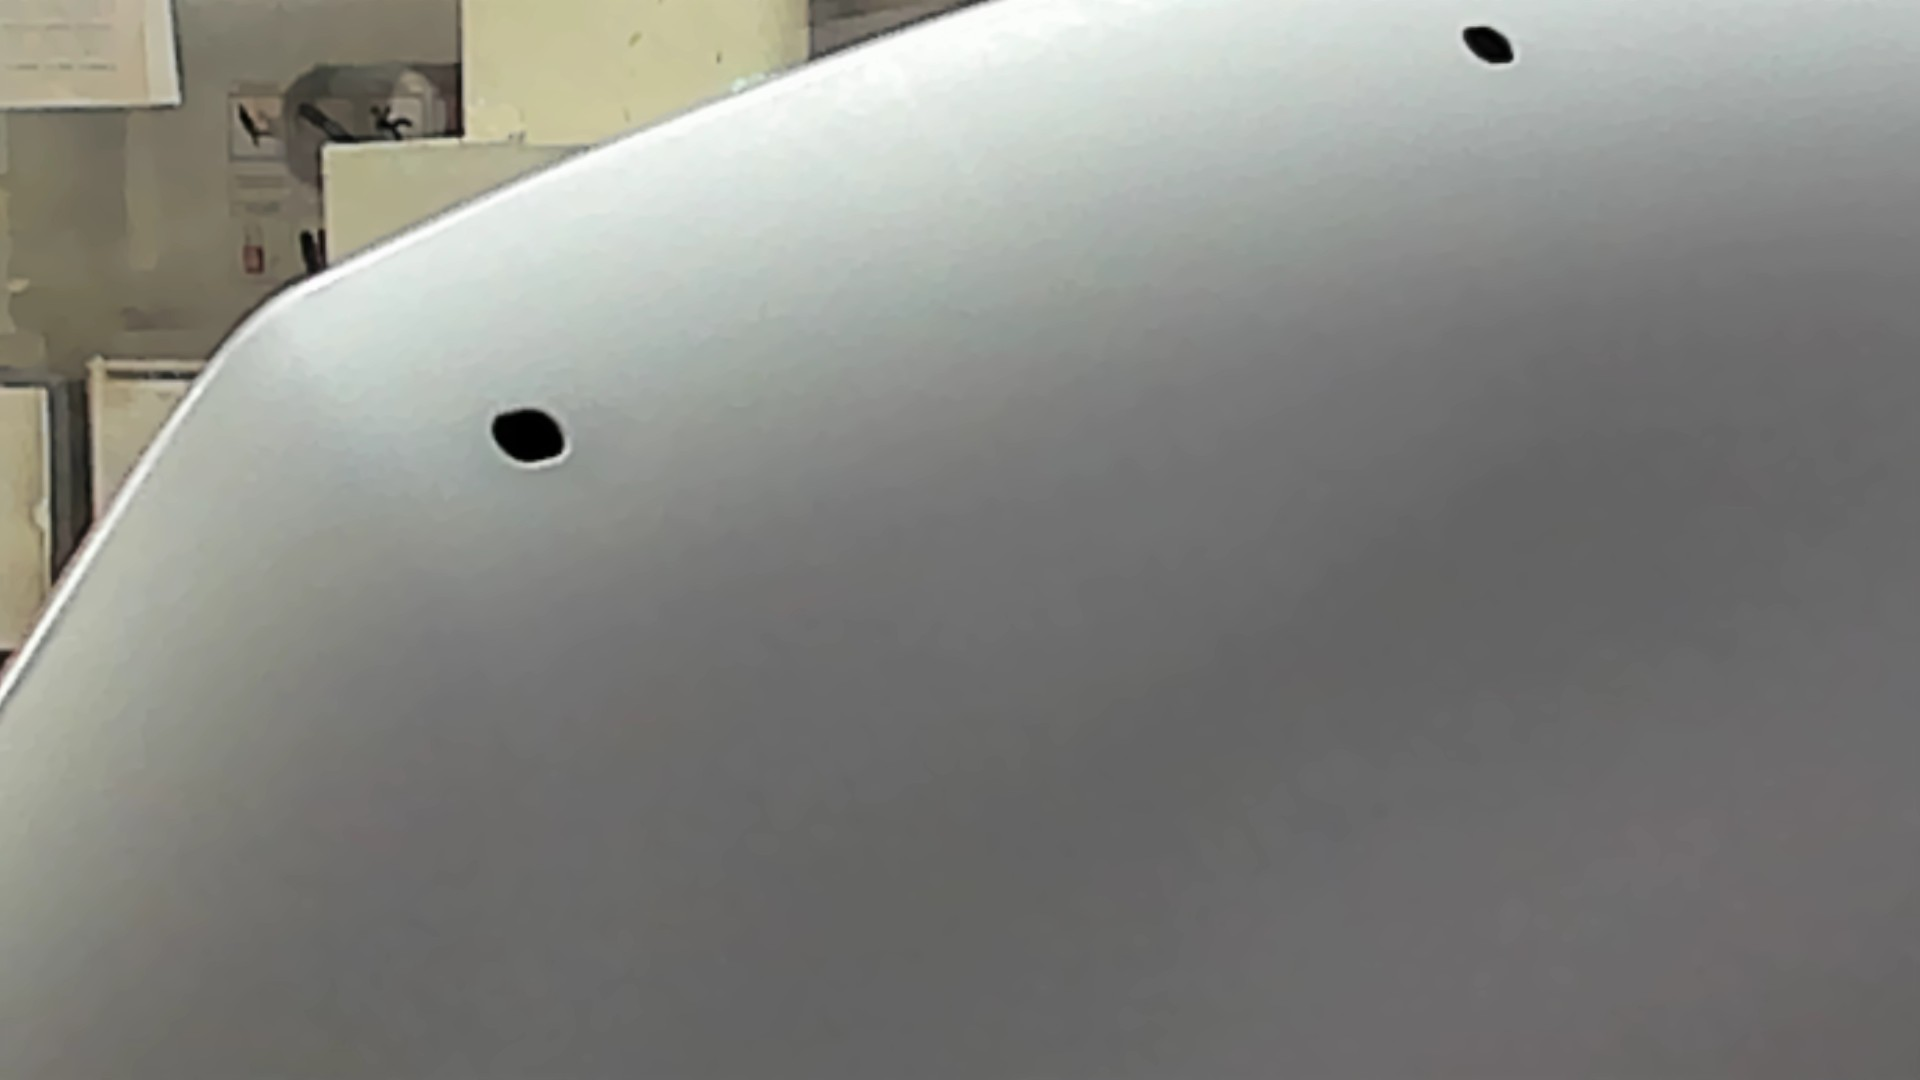chico: (473, 400, 589, 473), (1452, 11, 1528, 78)
